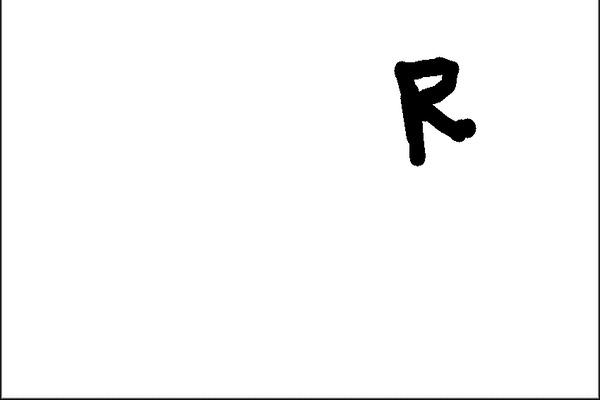R: (385, 49, 490, 174)
